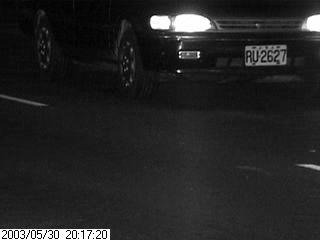plate: (243, 42, 288, 68)
